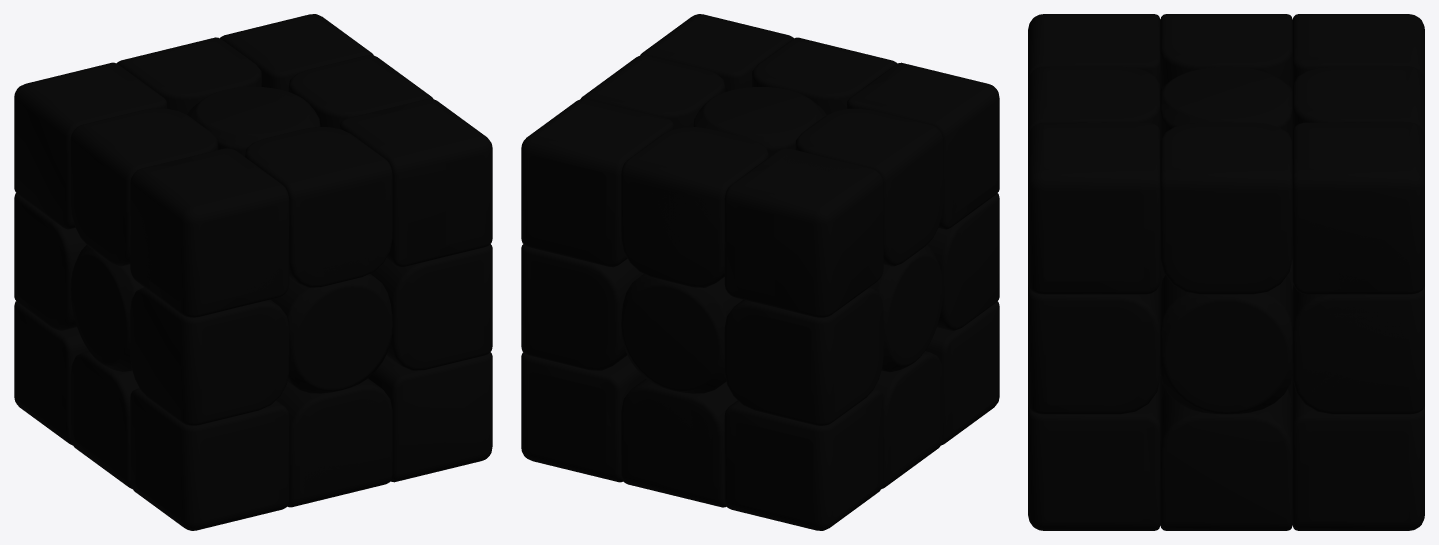
File: GDTZCube.FBX
3 views of the same model, side by side, from view 1: azimuth 30°, elevation 25°; view 2: azimuth 150°, elevation 25°; view 3: azimuth 270°, elevation 25° (orthographic). The views are drawn at different scales.
Parts seen in each view (by area): view 1: URF 0, DLF 0, UF 0, RF 0, ULF 0, DF 0, F 0, URB 0, DRF 0, LF F, RF F, DRF F (+30 smaller); view 2: URB 0, B 0, UB 0, DRB 0, ULB 0, DB B, RB B, LB B, RF 0, DLB B, DRB B, ULB B (+30 smaller); view 3: ULB 0, DL 0, LB 0, ULF 0, LF L, UL L, ULF L, DLF L, DLB L, L L, UL 0, L 0 (+19 smaller).
Boxes of the visible parts, x1,y1,x2,y2 form: URF 0: [130, 148, 289, 317]; DLF 0: [368, 352, 492, 482]; UF 0: [245, 127, 392, 287]; RF 0: [130, 287, 289, 425]; ULF 0: [340, 98, 492, 266]; DF 0: [276, 378, 392, 507]; F 0: [270, 274, 392, 393]; URB 0: [14, 62, 166, 229]; DRF 0: [130, 388, 289, 530]; LF F: [405, 260, 483, 361]; RF F: [202, 314, 279, 415]; DRF F: [200, 422, 278, 520]; URB 0: [724, 148, 883, 317]; B 0: [621, 274, 742, 393]; UB 0: [621, 127, 768, 287]; DRB 0: [724, 388, 883, 530]; ULB 0: [521, 99, 673, 267]; DB B: [628, 399, 713, 494]; RB B: [734, 314, 811, 415]; LB B: [530, 260, 607, 361]; RF 0: [927, 193, 999, 330]; DLB B: [528, 372, 606, 470]; DRB B: [735, 422, 813, 520]; ULB B: [528, 155, 606, 253]; ULB 0: [1292, 122, 1424, 294]; DL 0: [1160, 389, 1292, 530]; LB 0: [1292, 285, 1424, 414]; ULF 0: [1028, 122, 1160, 294]; LF L: [1046, 307, 1145, 405]; UL L: [1172, 193, 1280, 283]; ULF L: [1044, 191, 1143, 281]; DLF L: [1044, 431, 1143, 521]; DLB L: [1309, 431, 1408, 521]; L L: [1172, 307, 1280, 405]; UL 0: [1160, 122, 1292, 294]; L 0: [1160, 275, 1292, 414].
Size of the model in its own units: 54.96 by 54.9 by 54.91.
